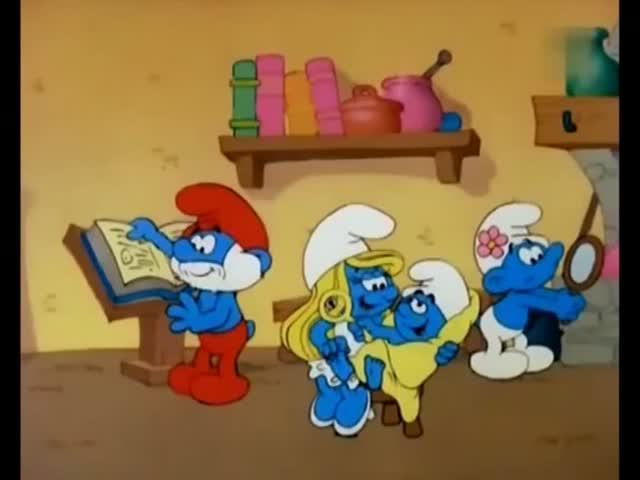smurf: (125, 180, 273, 406), (287, 199, 400, 440), (470, 195, 585, 382), (323, 261, 473, 397)
